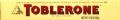grozi_68: (0, 0, 119, 20)
